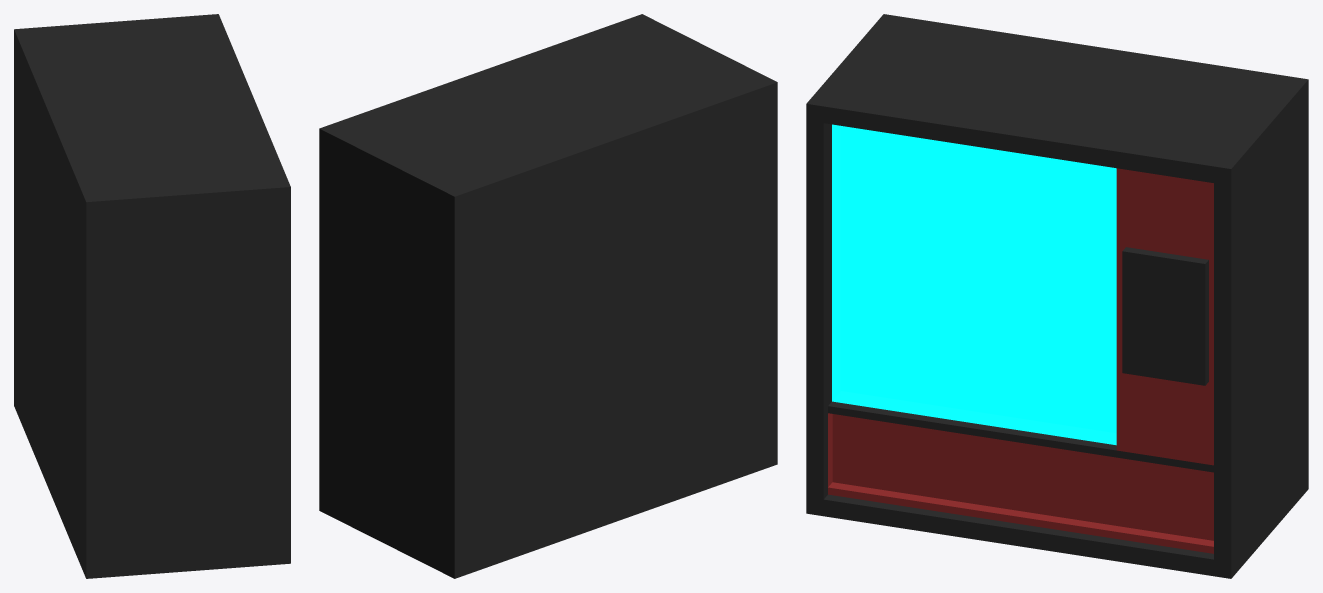
File: cyberPunk2.gltf
The picture shows the model from 3 angles, left to right: view 1: azimuth 30°, elevation 25°; view 2: azimuth 150°, elevation 25°; view 3: azimuth 270°, elevation 25°; orthographic projection. The views are drawn at different scales.
Visible parts, largest first — view 1: machine; view 2: machine; view 3: machine.
Boxes of the visible parts, box(x1,y1,x2,y2) form: machine: box(14, 14, 290, 578); machine: box(319, 14, 777, 578); machine: box(806, 14, 1308, 578).
Size of what is drawn, in the model's own units: 0.000536 by 0.00066 by 0.000733.
Materials: 1 (1 with a texture image).
